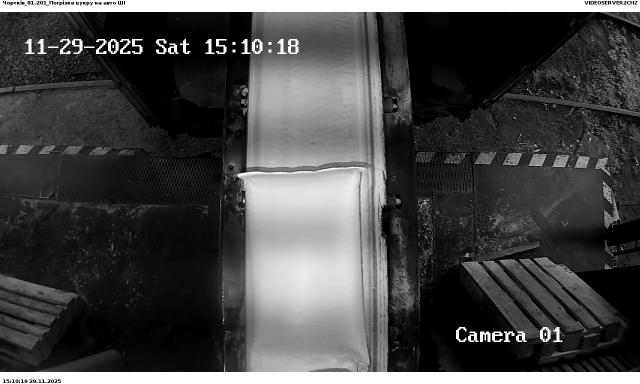bag: (237, 166, 370, 372)
